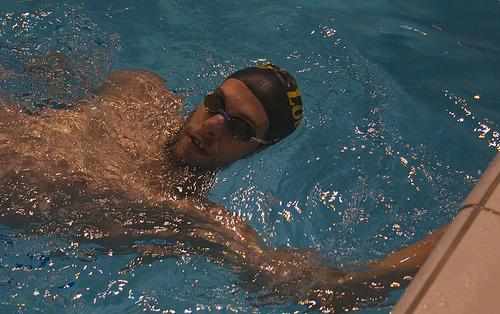human: (0, 54, 447, 309)
